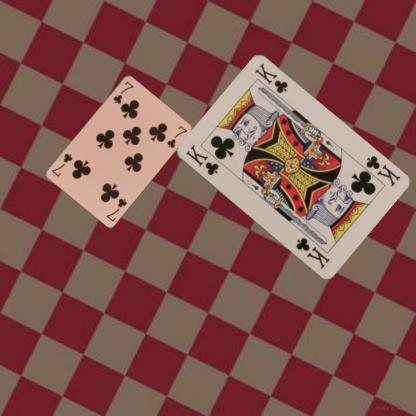7c: (110, 78, 135, 104), (104, 196, 128, 223)
Kc: (362, 153, 401, 188), (182, 141, 219, 176)
